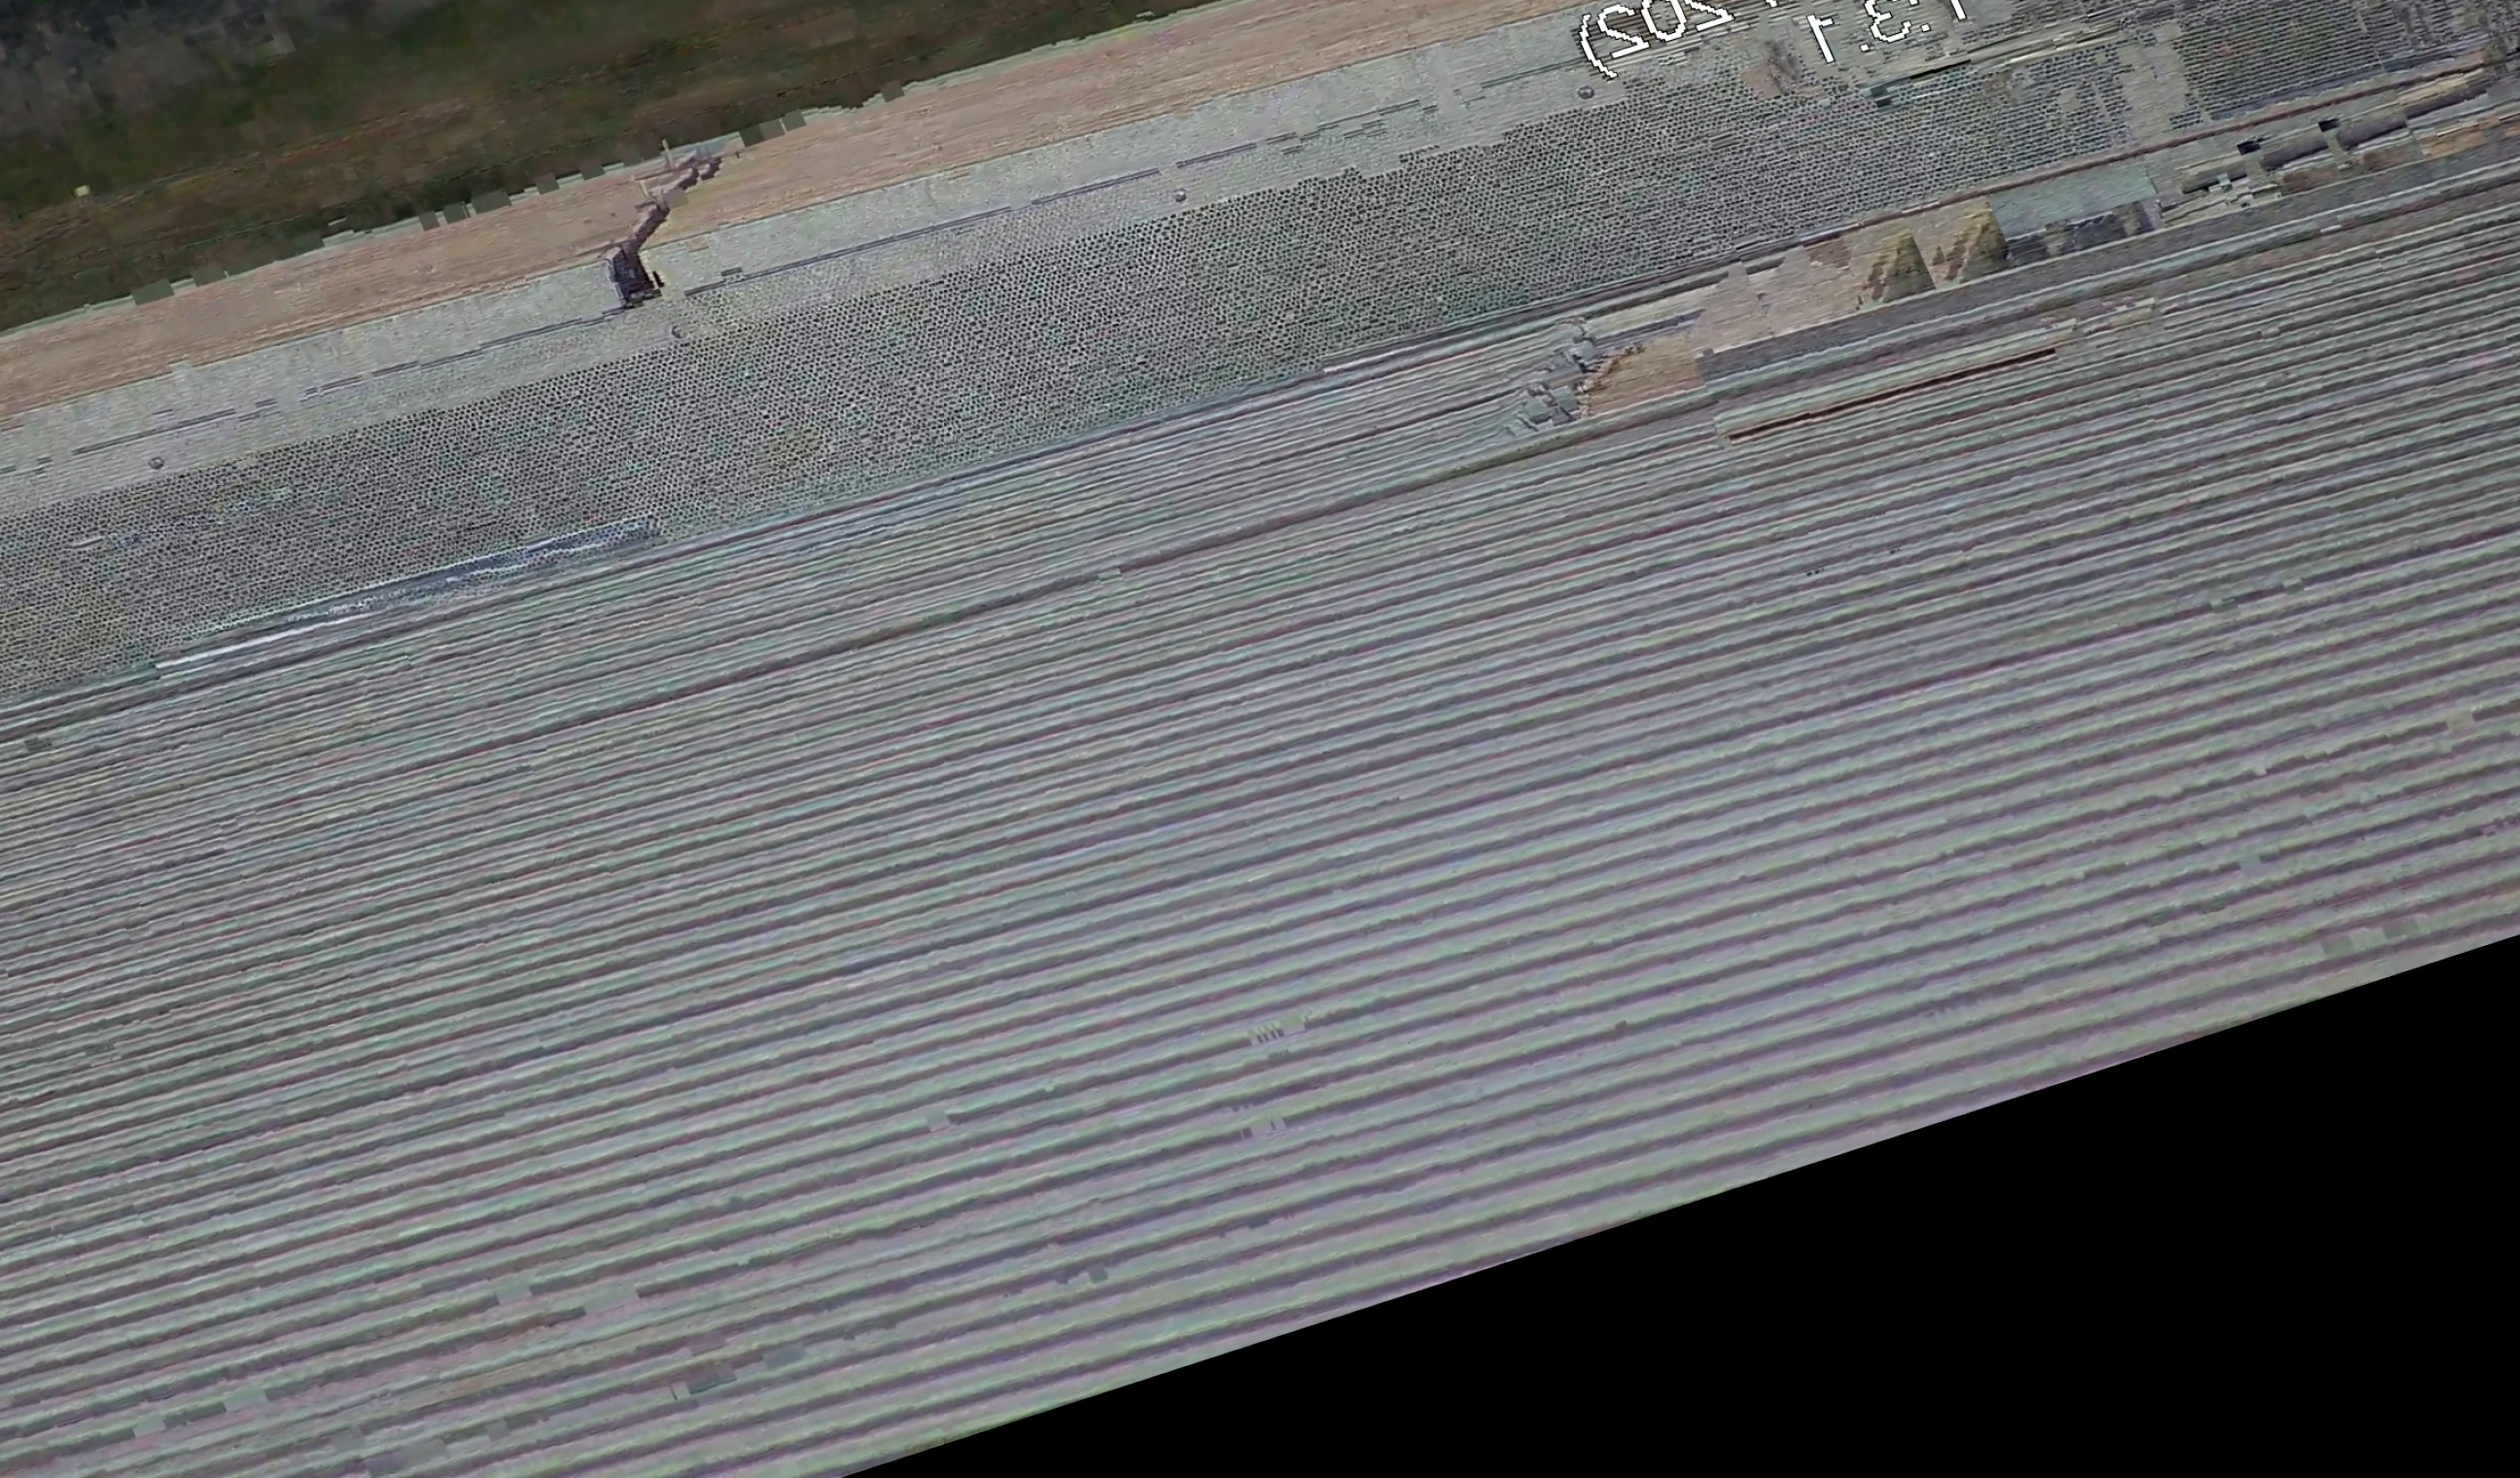Other: (542, 114, 781, 311)
